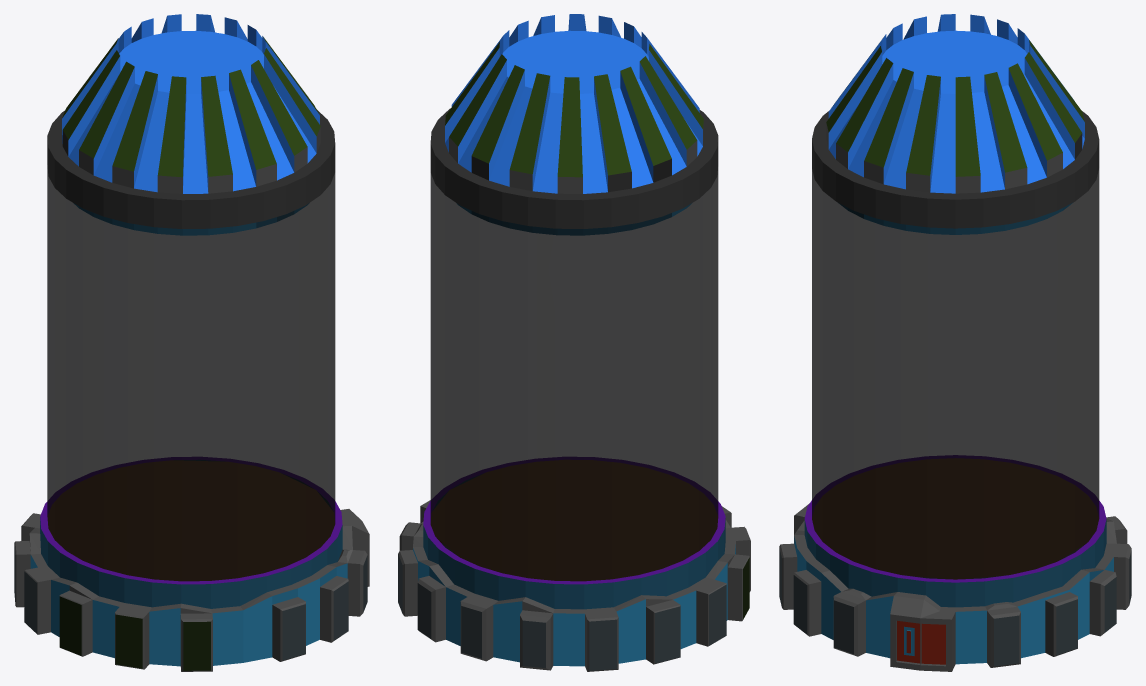
Rendered from LAB_Chamber.fbx.
The picture shows the model from 3 angles, left to right: view 1: azimuth 30°, elevation 25°; view 2: azimuth 150°, elevation 25°; view 3: azimuth 270°, elevation 25°; orthographic projection.
Visible parts, largest first — view 1: Cylinder; view 2: Cylinder; view 3: Cylinder.
Boxes of the visible parts, <box> form: Cylinder: <box>14,14,369,671</box>; Cylinder: <box>398,14,750,671</box>; Cylinder: <box>779,14,1131,671</box>.
Bounding box in the file's own units: 171 × 291 × 169.
Materials: 2 (1 with a texture image).
